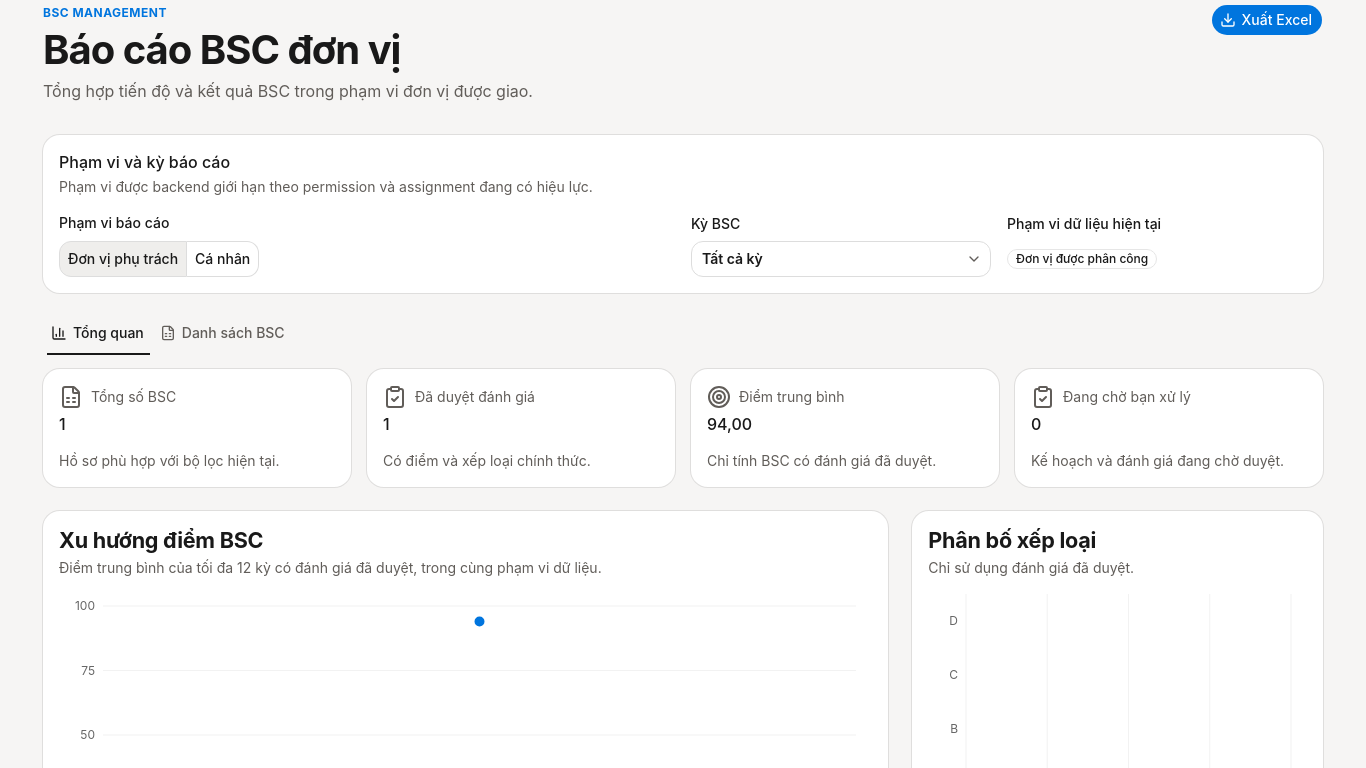
Test: BscReportPage desktop report › lets a multi-scope user switch to the personal report
The image size is (1366, 768).
Check: the element named "Phạm vi báo cáo" is shown, box x1=59 y1=241 x2=259 y2=277
What coordinates should you click on to do the following:
click the tab "Danh sách BSC"
I would click on:
 (223, 333)
Its box is x1=155 y1=315 x2=292 y2=351.
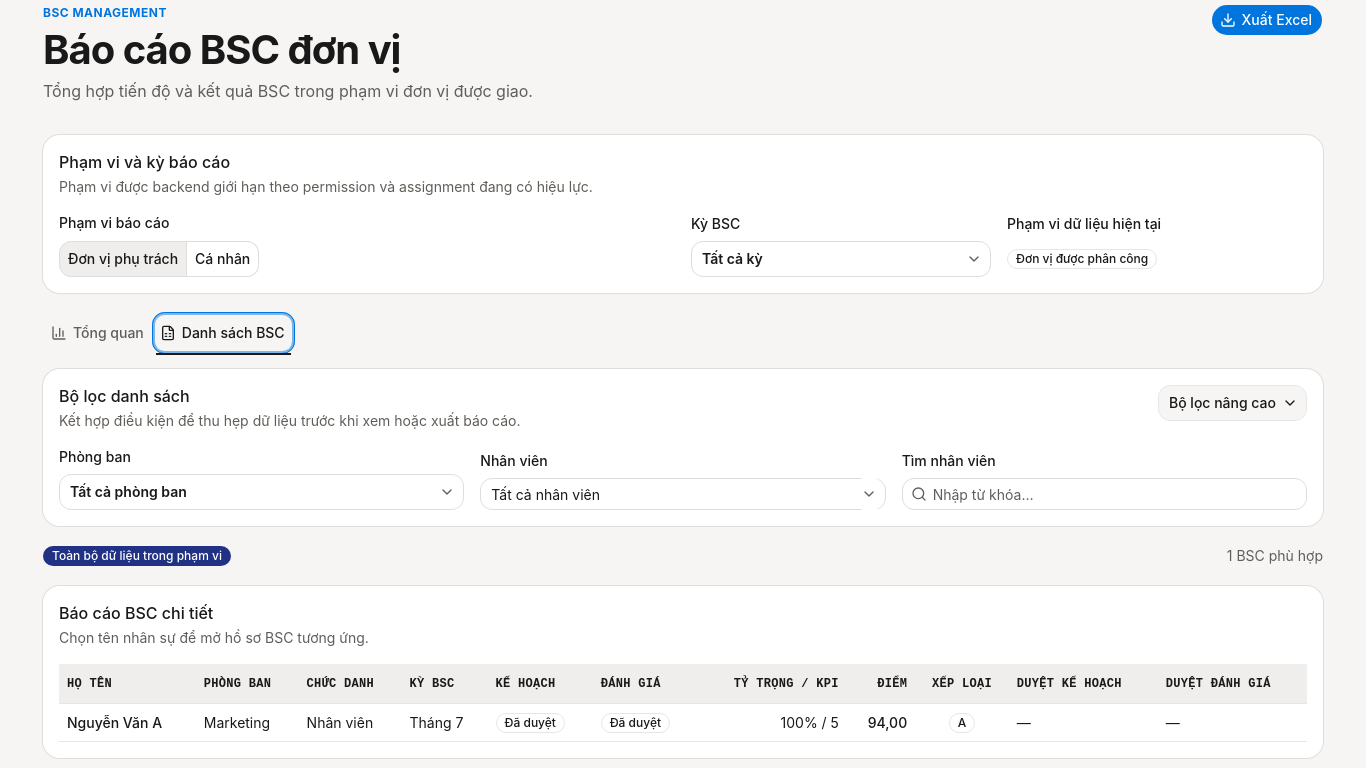
Check: the dropdown labelled "phòng ban" is shown, box x1=59 y1=474 x2=464 y2=510
Check: the dropdown labelled "Nhân viên" is shown, box x1=481 y1=474 x2=857 y2=514
What coordinates should you click on to do the following:
click the radio button labelled "Cá nhân"
I would click on:
 (223, 259)
Its box is x1=187 y1=241 x2=259 y2=277.
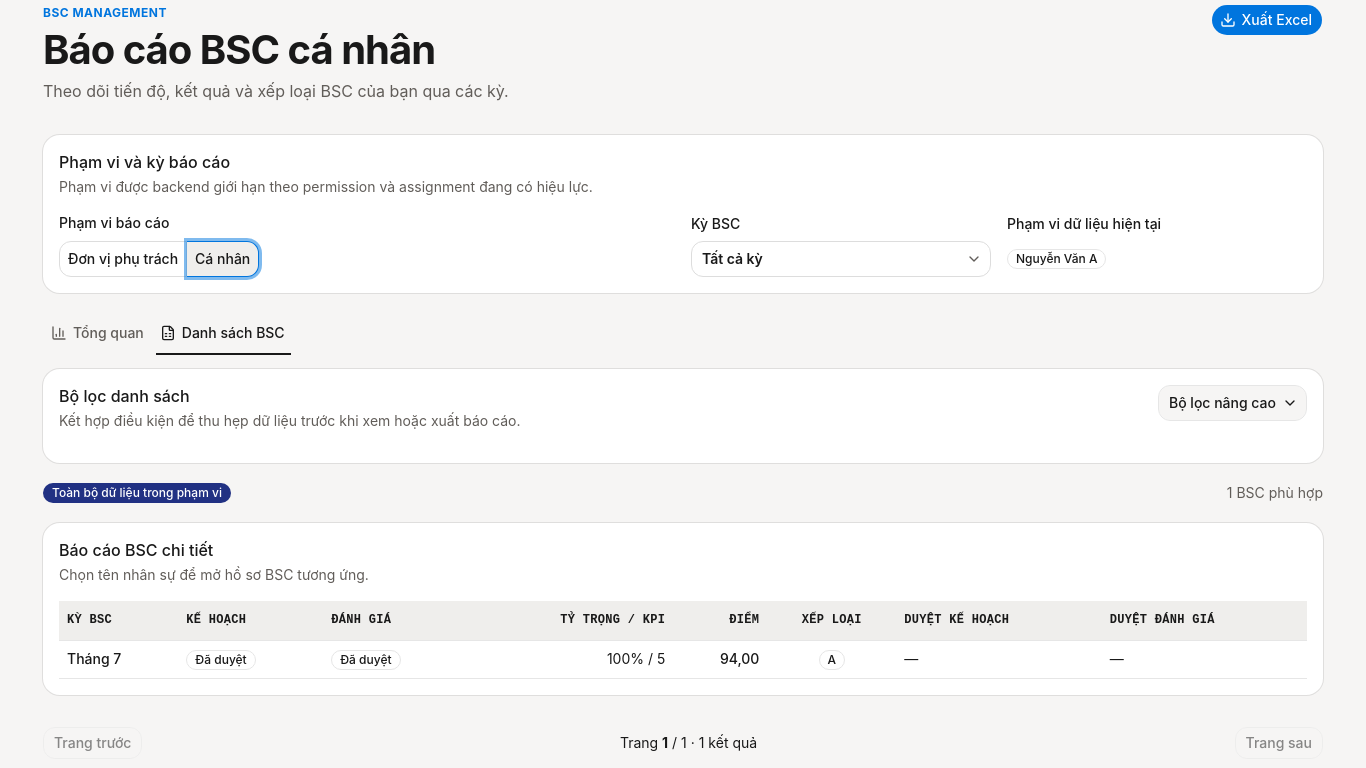
Check: the label labelled "Phòng ban" is gone
Check: the label labelled "Nhân viên" is gone
